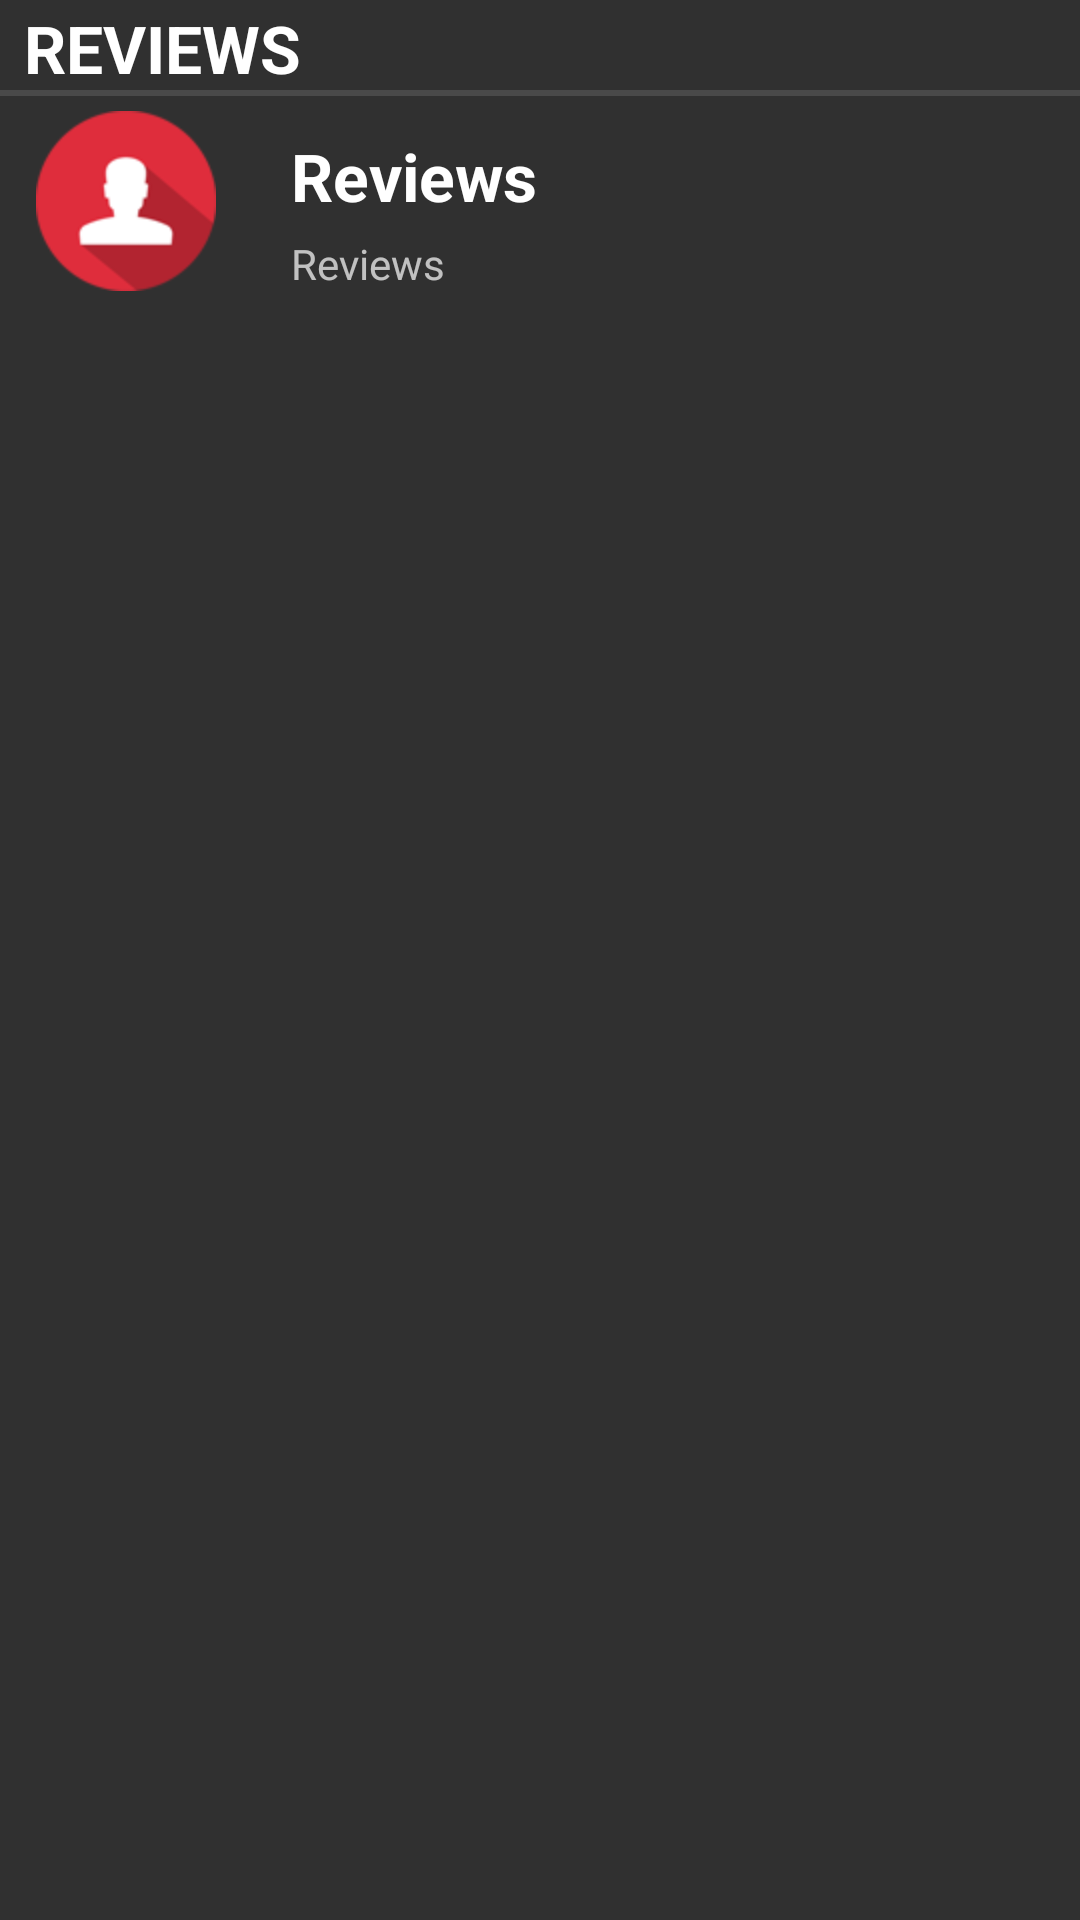

Where to tap for icons on this 1080 × 1920 app screen, as (x=x, y=y):
reviewer: (x=126, y=201)
